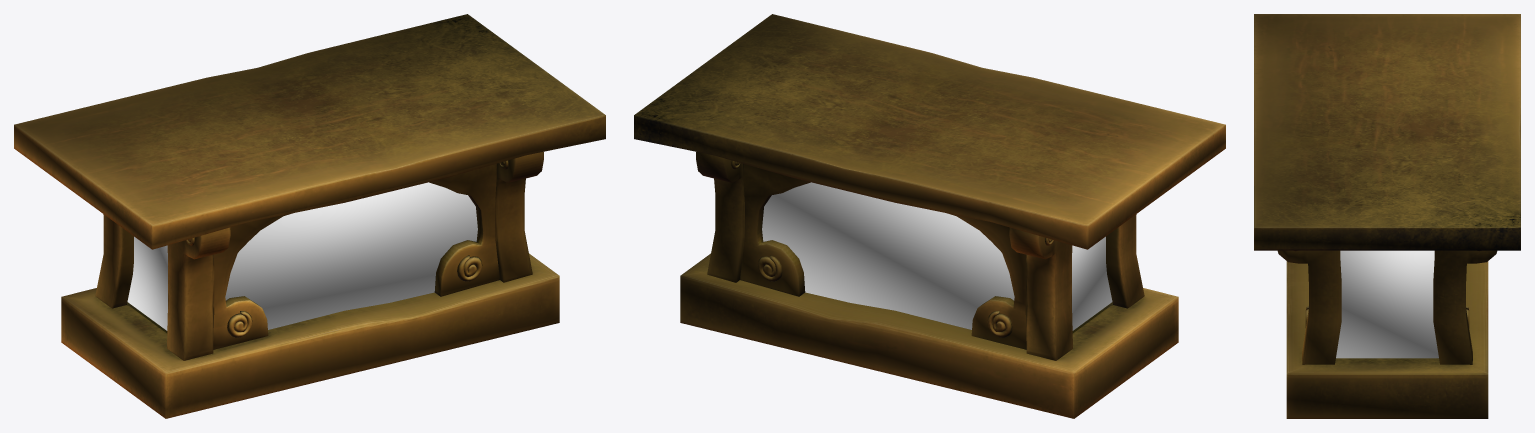
Rendered from stylizedShop.fbx.
3 renders of one model, left to right at view 1: azimuth 30°, elevation 25°; view 2: azimuth 150°, elevation 25°; view 3: azimuth 270°, elevation 25°, orthographic. The views are drawn at different scales.
Parts seen in each view (by area): view 1: MainDesk_low; view 2: MainDesk_low; view 3: MainDesk_low.
Boxes of the visible parts, left/top/right/bottom form: MainDesk_low: left=14, top=14, right=605, bottom=418; MainDesk_low: left=634, top=14, right=1225, bottom=418; MainDesk_low: left=1254, top=14, right=1520, bottom=418.
Bounding box in the file's own units: 163 × 72.92 × 85.82.
